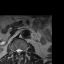CCS_normal: (17, 46, 20, 57)
LFS_stenosis: (22, 47, 24, 53)
LLS_normal: (20, 47, 22, 54)
RFS_stenosis: (13, 47, 15, 54)
RLS_normal: (15, 47, 17, 54)
